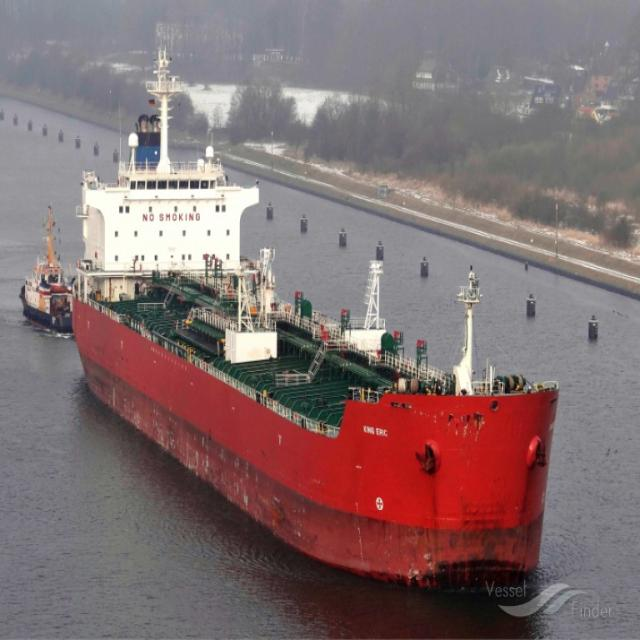Oil Tanker: (74, 73, 561, 591)
